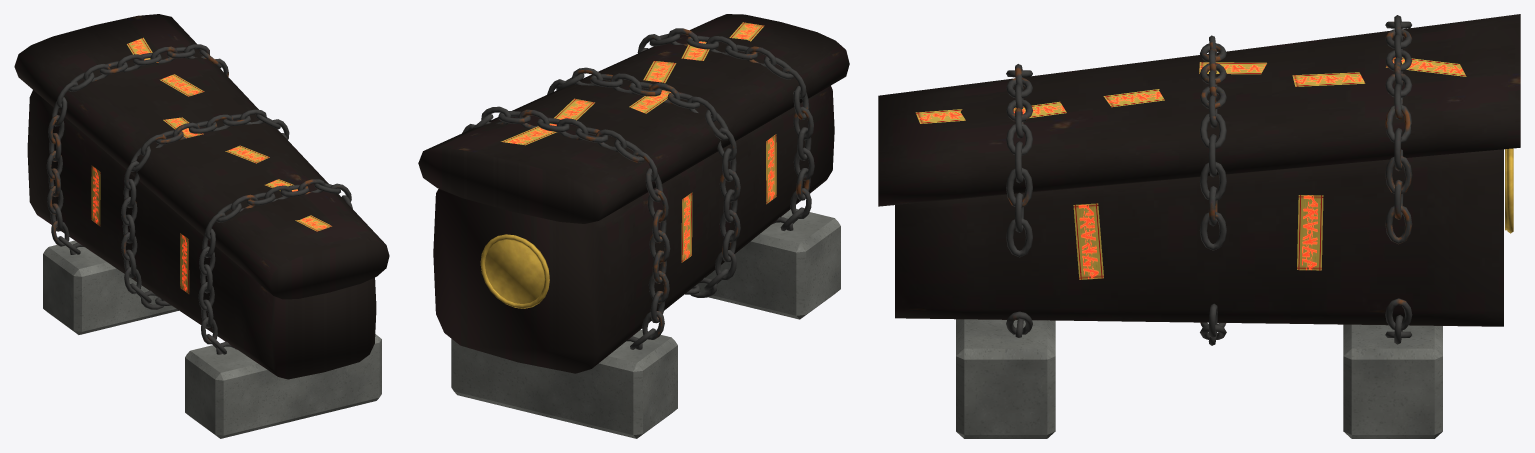
Rendered from sealed_coffin.glb.
3 views of the same model, side by side, from view 1: azimuth 30°, elevation 25°; view 2: azimuth 150°, elevation 25°; view 3: azimuth 270°, elevation 25° (orthographic). The views are drawn at different scales.
Parts seen in each view (by area): view 1: CoffinLid, Coffin, CoffinTrestles, CoffinChains, Talismans; view 2: Coffin, CoffinLid, CoffinTrestles, CoffinChains, Talismans, CoffinMedallion; view 3: Coffin, CoffinLid, CoffinTrestles, CoffinChains, Talismans, CoffinMedallion.
Boxes of the visible parts, x1,y1,x2,y2 form: CoffinLid: [14, 14, 389, 299]; Coffin: [27, 90, 376, 379]; CoffinTrestles: [43, 240, 381, 438]; CoffinChains: [46, 44, 352, 354]; Talismans: [91, 37, 331, 293]; Coffin: [433, 85, 834, 373]; CoffinLid: [418, 14, 849, 223]; CoffinTrestles: [451, 209, 840, 438]; CoffinChains: [462, 28, 814, 349]; Talismans: [501, 22, 776, 262]; CoffinMedallion: [480, 234, 549, 308]; Coffin: [895, 149, 1503, 326]; CoffinLid: [878, 14, 1520, 206]; CoffinTrestles: [956, 319, 1442, 438]; CoffinChains: [1006, 15, 1412, 345]; Talismans: [915, 57, 1466, 279]; CoffinMedallion: [1505, 148, 1513, 233].
Size of what is drawn, in the model's own units: 1.06 by 1.37 by 2.32.
5 materials, 5 textured.
